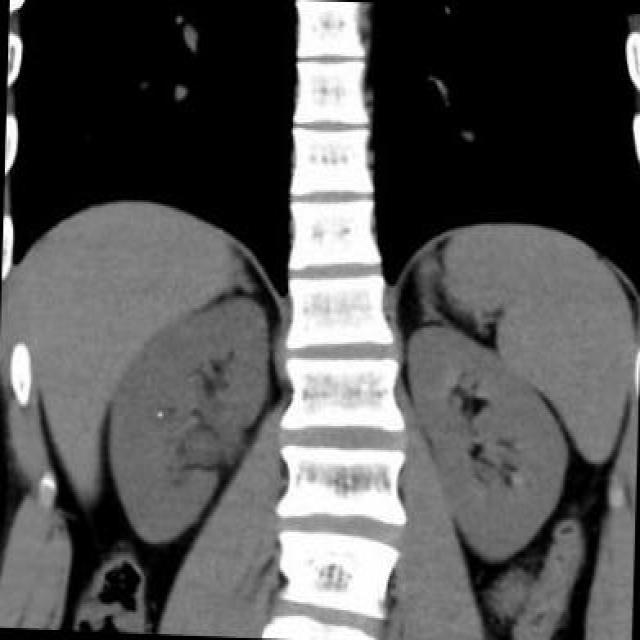Tas_Var: (153, 406, 169, 420)
